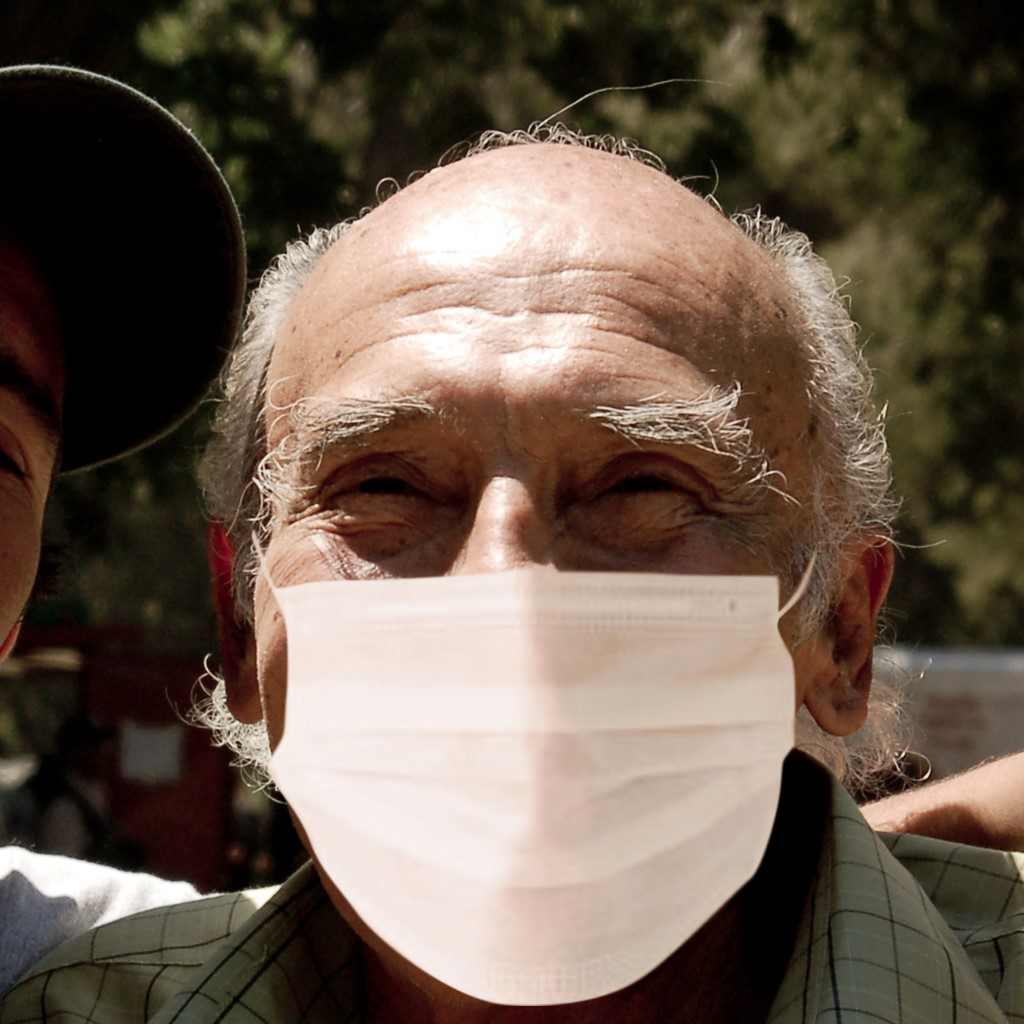con_mascara: (251, 180, 799, 944)
